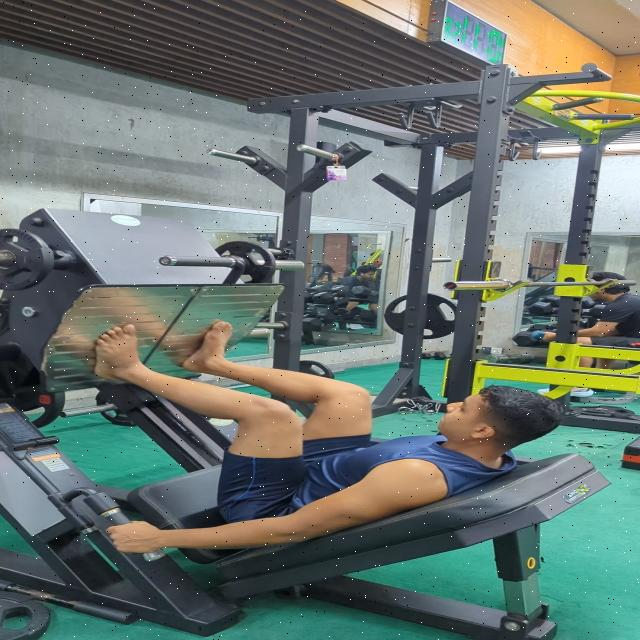Normal_LegPress: (26, 313, 598, 562)
